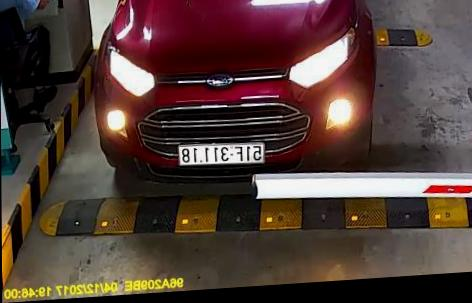License_Plate: (176, 136, 268, 173)
